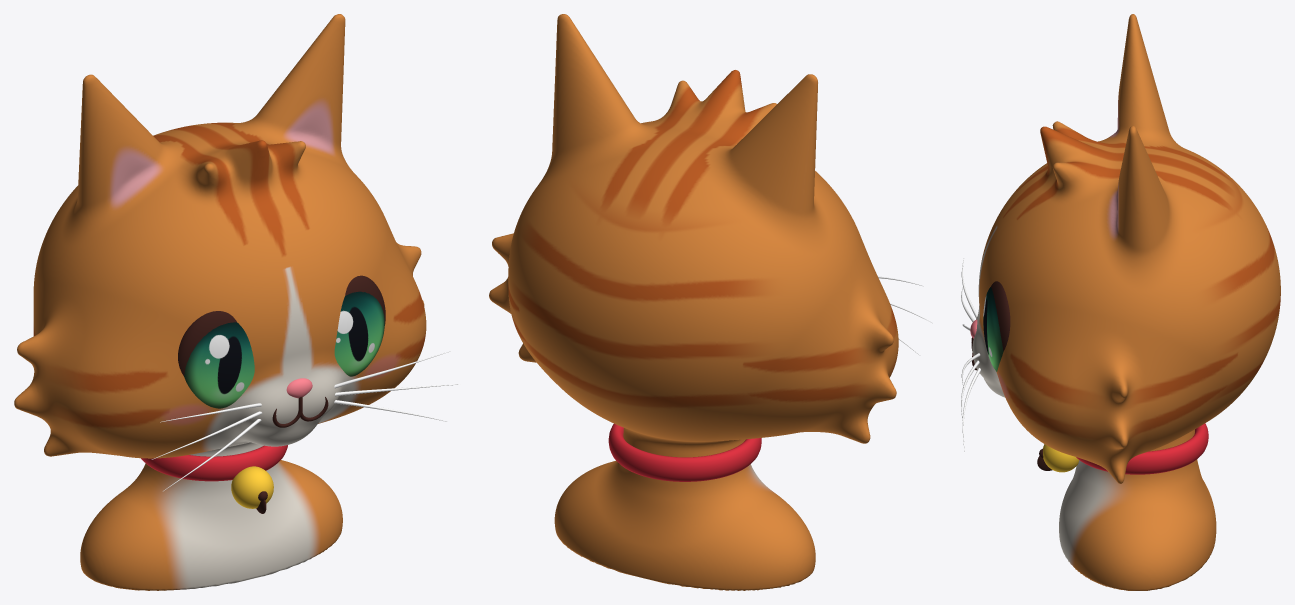
Rendered from cat_head.glb.
The picture shows the model from 3 angles, left to right: view 1: azimuth 30°, elevation 25°; view 2: azimuth 150°, elevation 25°; view 3: azimuth 270°, elevation 25°; orthographic projection. The views are drawn at different scales.
Visible parts, largest first — view 1: Fur, Eye.R, Eye.L, Collar, Bell, EyeLiner.R, EyeLiner.L; view 2: Fur, Collar; view 3: Fur, Collar, Eye.L, EyeLiner.L, Bell.
Boxes of the visible parts, x1,y1,x2,y2 form: Fur: (14, 14, 426, 590); Eye.R: (184, 322, 254, 408); Eye.L: (334, 291, 384, 376); Collar: (141, 445, 287, 481); Bell: (231, 466, 273, 508); EyeLiner.R: (178, 311, 236, 375); EyeLiner.L: (345, 275, 385, 325); Fur: (489, 14, 898, 590); Collar: (608, 423, 761, 481); Fur: (972, 14, 1280, 590); Collar: (1076, 423, 1208, 474); Eye.L: (983, 287, 1003, 371); EyeLiner.L: (991, 281, 1010, 350); Bell: (1043, 444, 1079, 472).
Bounding box in the file's own units: 2.77 × 3.26 × 2.03.
Materials: 7 (1 with a texture image).
